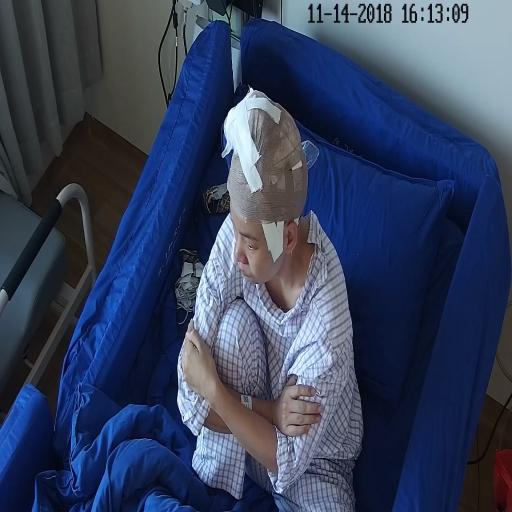Netural: (218, 126, 301, 285)
